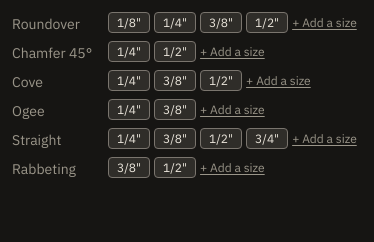
Test case: <RouterBits> › reads a bare 0 the way every size field does: it asks for a unit (ruling R13)
Click the button "+ Add a size" in the row of "Roundover": (324, 22) [292,15,357,30]
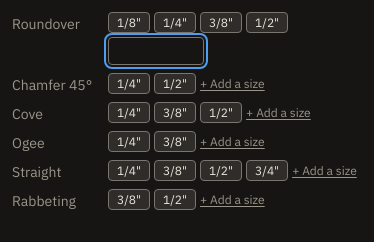
In the field named "Roundover size": (156, 51) [108,37,204,65], type "0"
Then press Enter
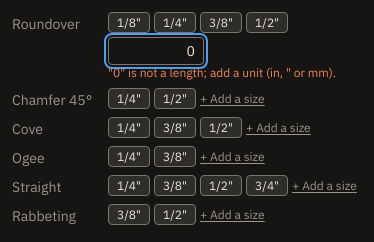
Now the text "\"0\" is not a length; add a unit (in, \" or mm)." is shown, box [108,65,336,80]
